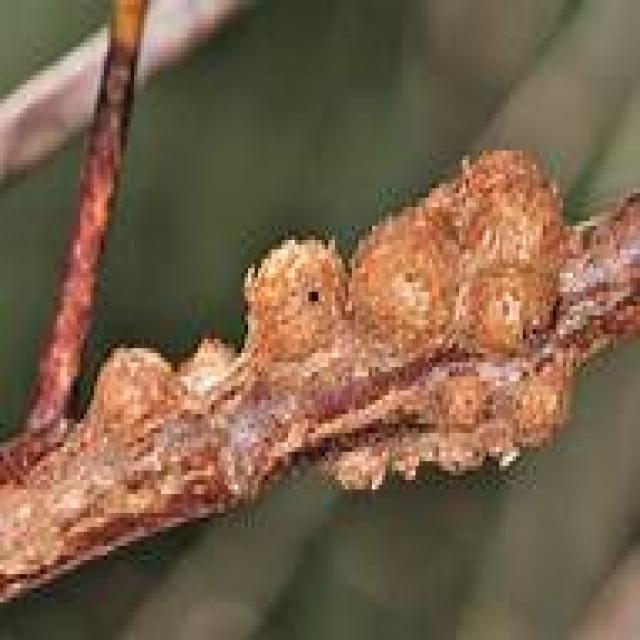BlackScale: (245, 150, 573, 377), (77, 343, 194, 448)
